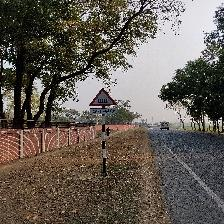Rail-crossing: (89, 89, 118, 116)
